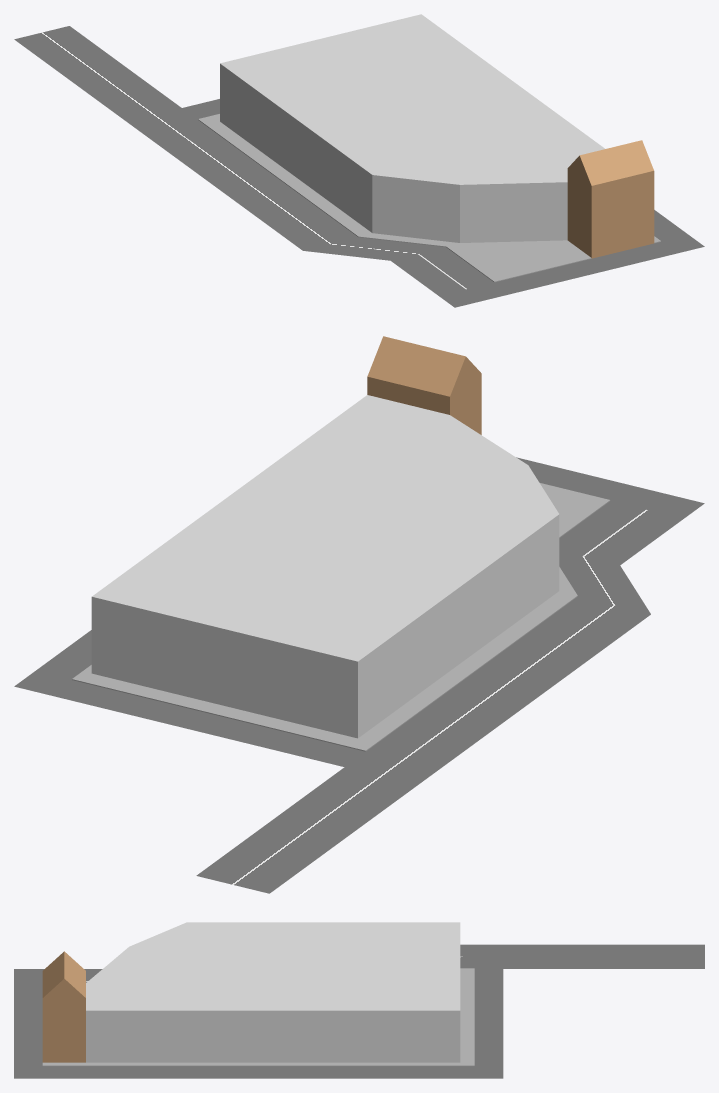
File: chunk_descalzas.glb
The picture shows the model from 3 angles, top to bottom: view 1: azimuth 30°, elevation 25°; view 2: azimuth 150°, elevation 25°; view 3: azimuth 270°, elevation 25°; orthographic projection. The views are drawn at different scales.
Visible parts, largest first — view 1: Buildings, Plane, Palace, Sidewalk; view 2: Buildings, Plane, Sidewalk, Palace; view 3: Buildings, Plane, Palace, Sidewalk.
Part boxes in pixels (x1,y1,x2,y2): Buildings: (220, 14, 604, 242); Plane: (14, 26, 704, 307); Palace: (567, 140, 654, 258); Sidewalk: (198, 114, 660, 282); Buildings: (91, 395, 559, 738); Plane: (14, 457, 704, 893); Sidewalk: (72, 483, 610, 751); Palace: (367, 336, 481, 434); Buildings: (86, 922, 460, 1062); Plane: (14, 944, 704, 1078); Palace: (42, 951, 85, 1062); Sidewalk: (42, 968, 474, 1066).
Size of what is drawn, in the model's own units: 44 by 13 by 96.
5 materials, 1 textured.
